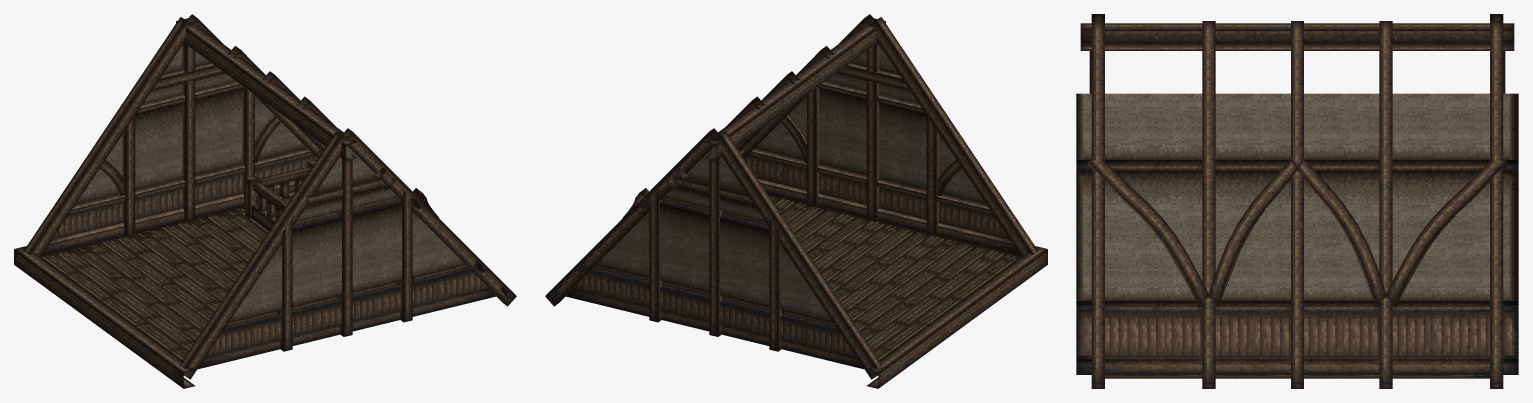
File: EnvBdgMD_Mount_A_Indoor_Inn_Roof.FBX
3 views of the same model, side by side, from view 1: azimuth 30°, elevation 25°; view 2: azimuth 150°, elevation 25°; view 3: azimuth 270°, elevation 25° (orthographic). The views are drawn at different scales.
Visible parts, largest first — view 1: EnvBdgMD_Mount_A_Indoor_Inn_Roof; view 2: EnvBdgMD_Mount_A_Indoor_Inn_Roof; view 3: EnvBdgMD_Mount_A_Indoor_Inn_Roof.
Part boxes in pixels (x1,y1,x2,y2): EnvBdgMD_Mount_A_Indoor_Inn_Roof: [14, 14, 516, 388]; EnvBdgMD_Mount_A_Indoor_Inn_Roof: [545, 14, 1047, 388]; EnvBdgMD_Mount_A_Indoor_Inn_Roof: [1076, 14, 1518, 388].
Bounding box in the file's own units: 1125 × 677 × 1000.
1 material, 1 textured.
